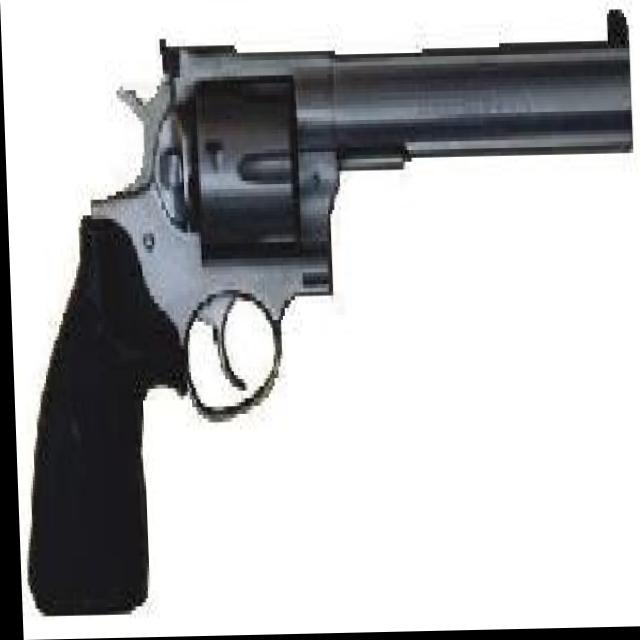handgun: (7, 8, 640, 617)
